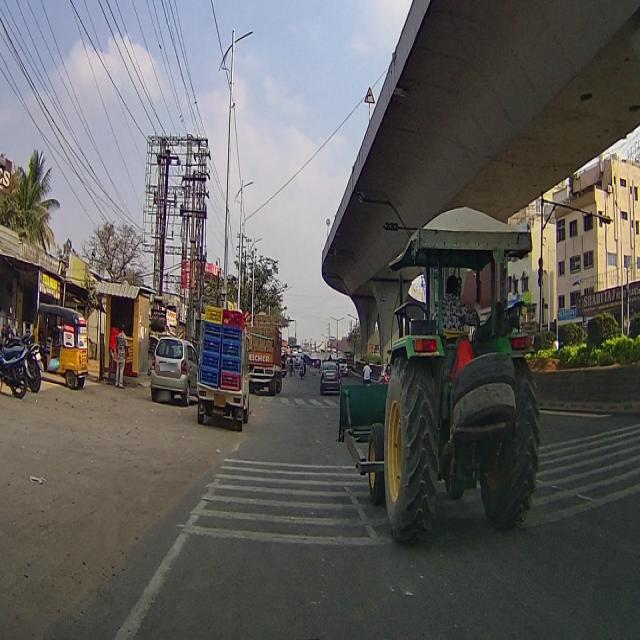right-hand-curve: (364, 86, 376, 106)
